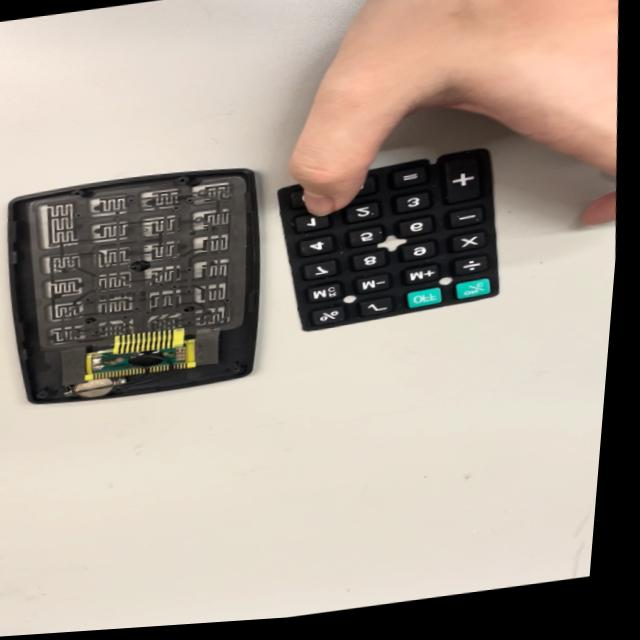front_panel: (0, 151, 286, 424)
number_pad: (279, 145, 520, 340)
